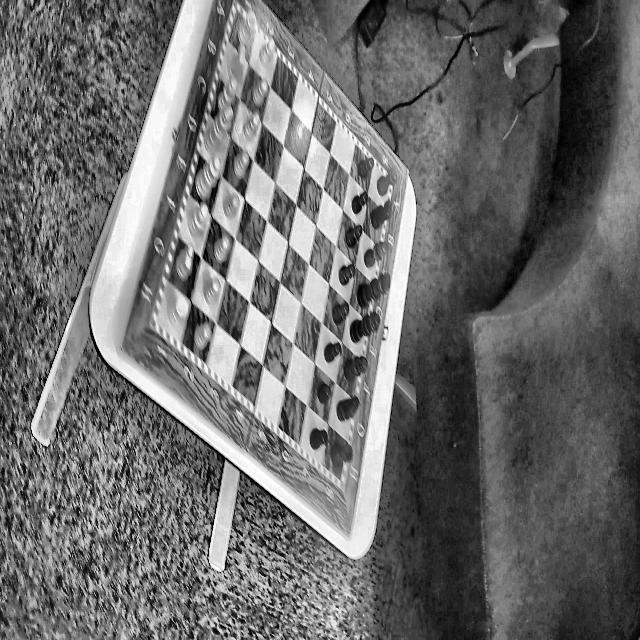chessboard: (158, 6, 390, 477)
